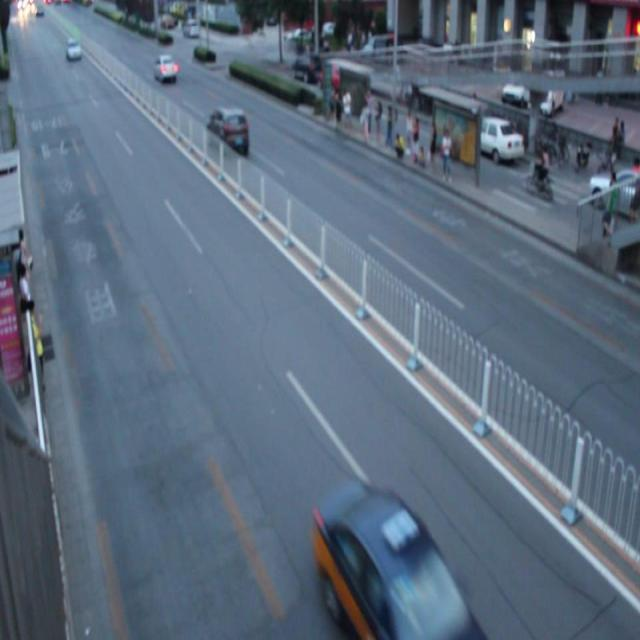car: (314, 484, 483, 640), (204, 104, 248, 163)
